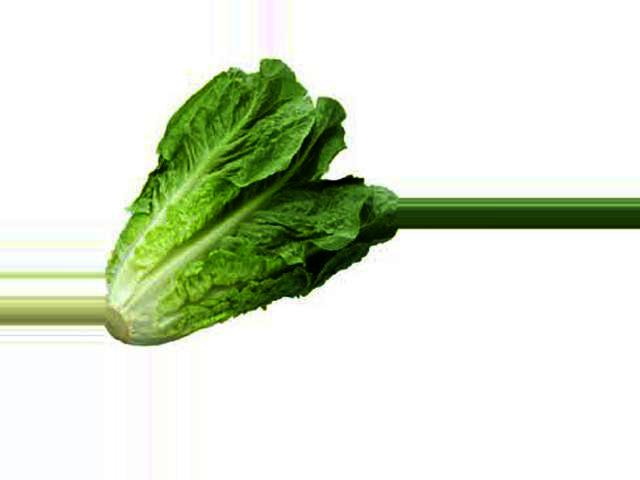lettuce: (107, 161, 261, 293)
